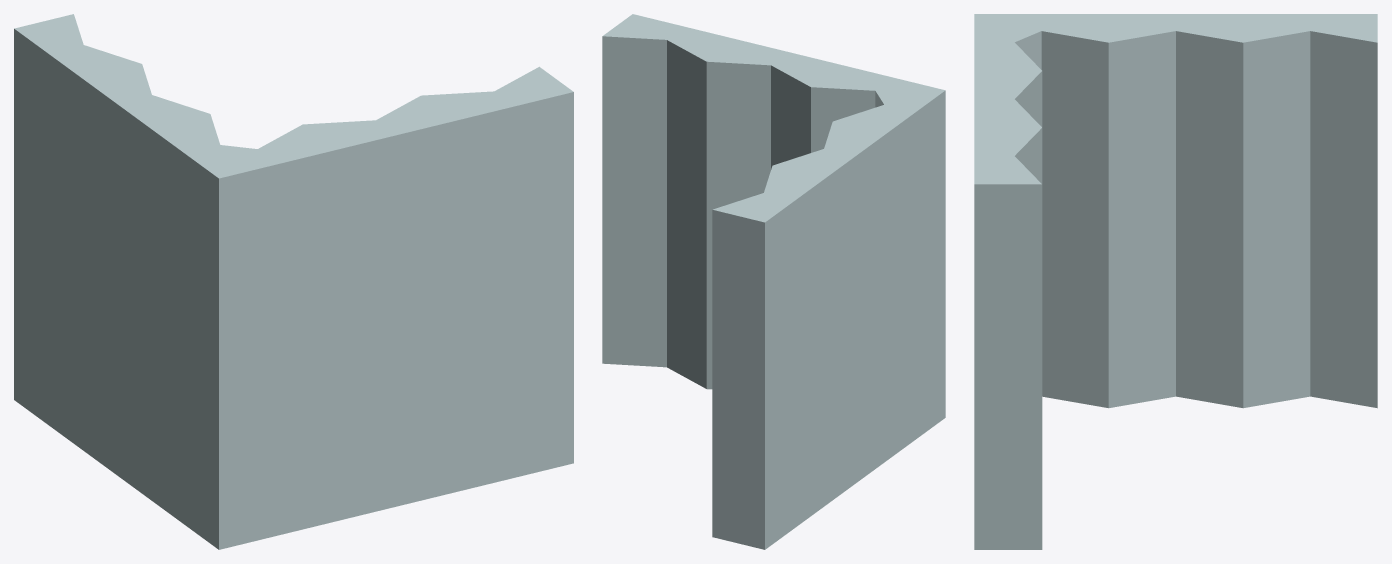
File: cliff_cornerInner_stone.glb
The picture shows the model from 3 angles, left to right: view 1: azimuth 30°, elevation 25°; view 2: azimuth 150°, elevation 25°; view 3: azimuth 270°, elevation 25°; orthographic projection. The views are drawn at different scales.
Parts seen in each view (by area): view 1: cliff_cornerInner_stone; view 2: cliff_cornerInner_stone; view 3: cliff_cornerInner_stone.
Part boxes in pixels (x1,y1,x2,y2): cliff_cornerInner_stone: [14, 14, 573, 549]; cliff_cornerInner_stone: [602, 14, 945, 549]; cliff_cornerInner_stone: [974, 14, 1377, 549].
Size of the model in its own units: 1 by 1 by 1.
